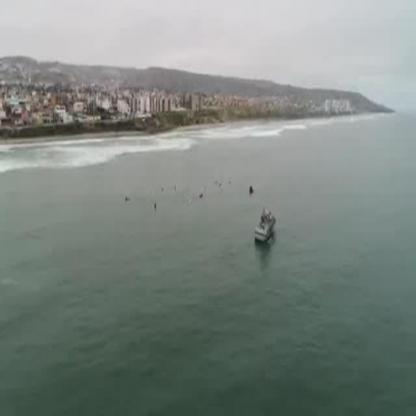Boat: (252, 211, 276, 242)
